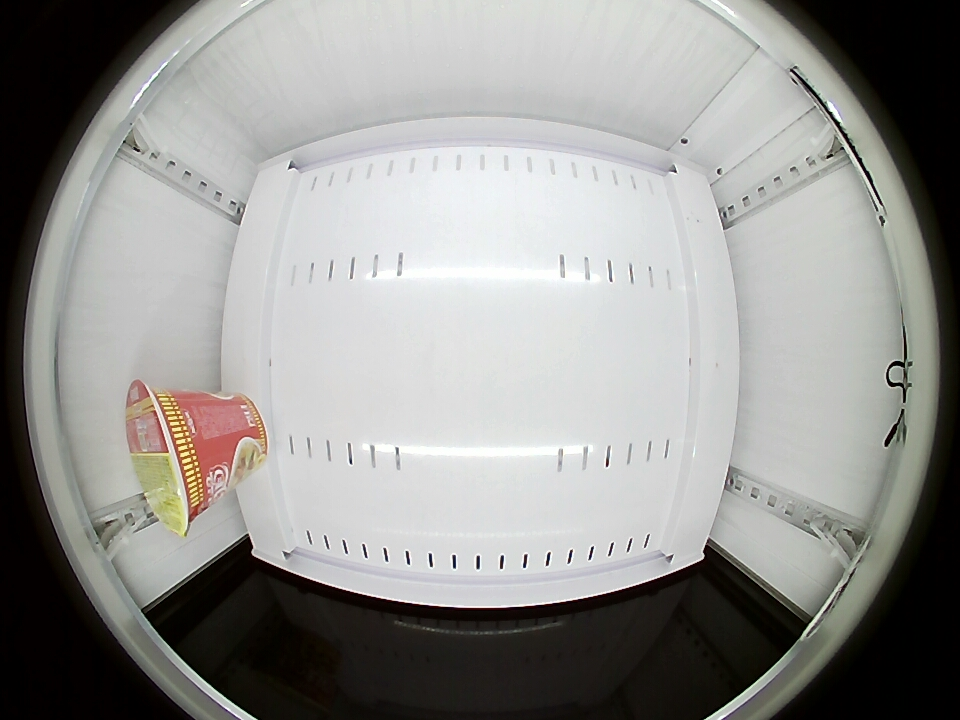heweidao3: (125, 383, 211, 535)
